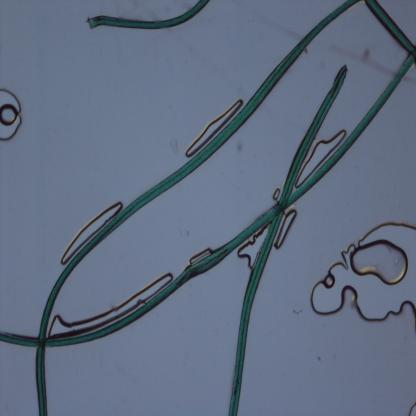Air bubble: (309, 222, 416, 322), (47, 272, 173, 337), (186, 100, 243, 158), (295, 128, 347, 190), (0, 86, 25, 144), (237, 233, 270, 269), (275, 210, 297, 250), (272, 186, 282, 202), (407, 401, 416, 415)
Background material: (58, 199, 122, 267)
Microfibre: (34, 1, 360, 415), (0, 48, 416, 348), (226, 64, 349, 415), (87, 0, 209, 31), (364, 1, 416, 59)
